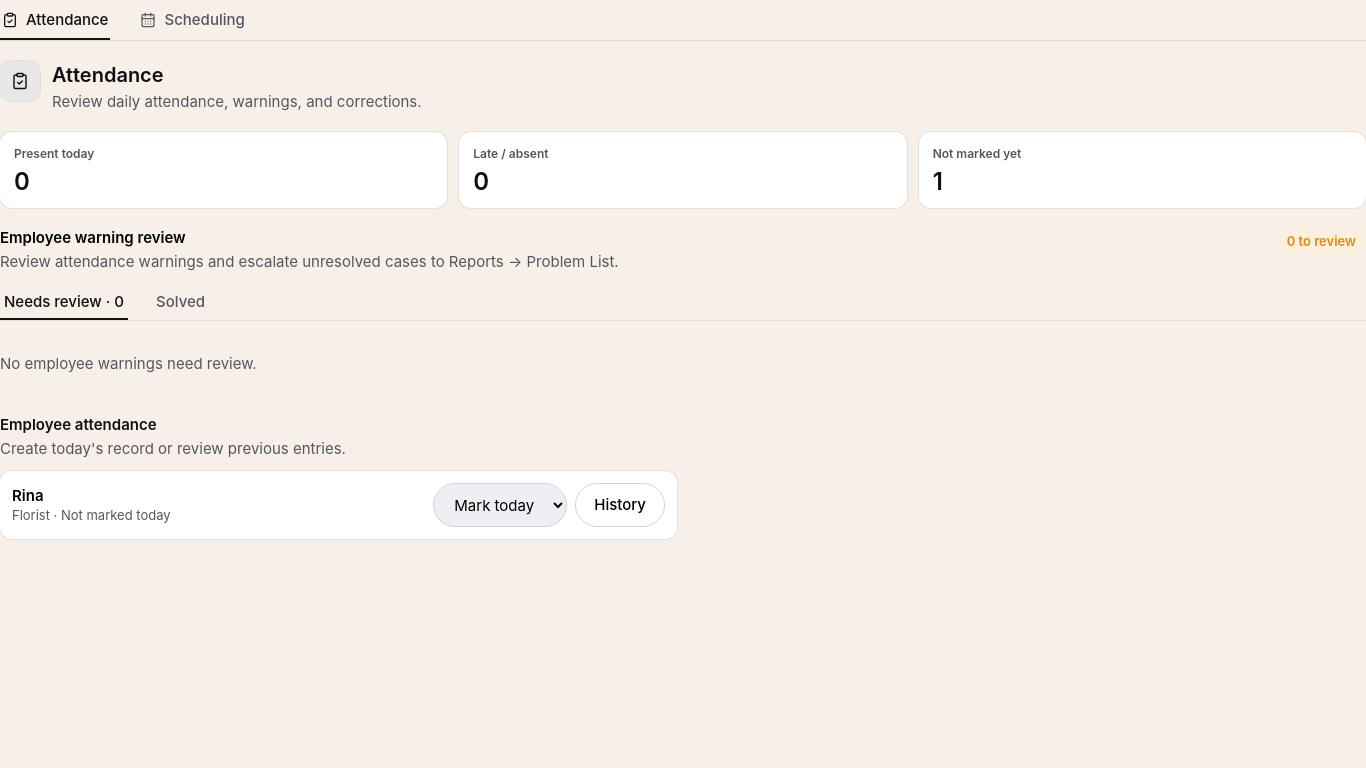
Test: separate attendance section › records a dated attendance entry with a note and shows history
Click the button "History". click: (620, 505)
box: [575,483,665,527]
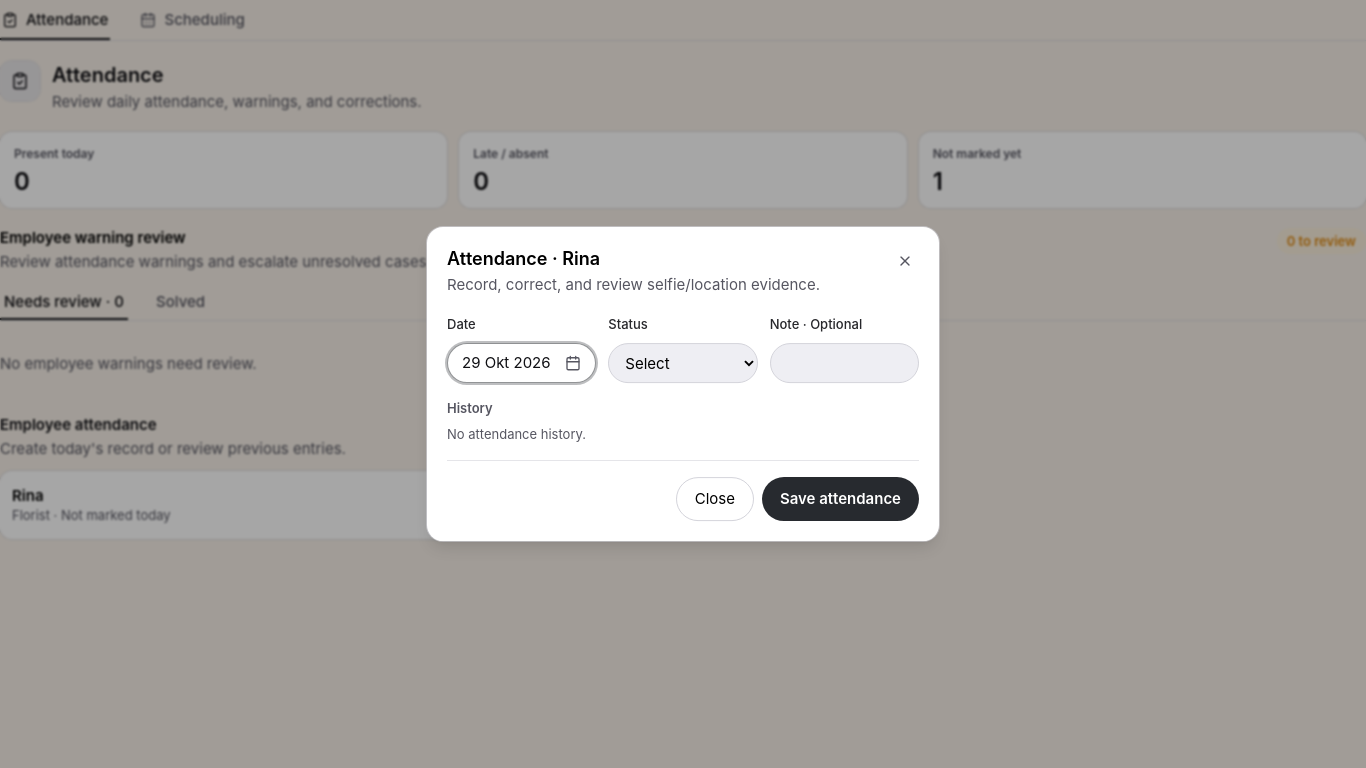
Select "Late" in the dropdown named "Attendance status". click: (683, 363)
box: [608,343,758,383]
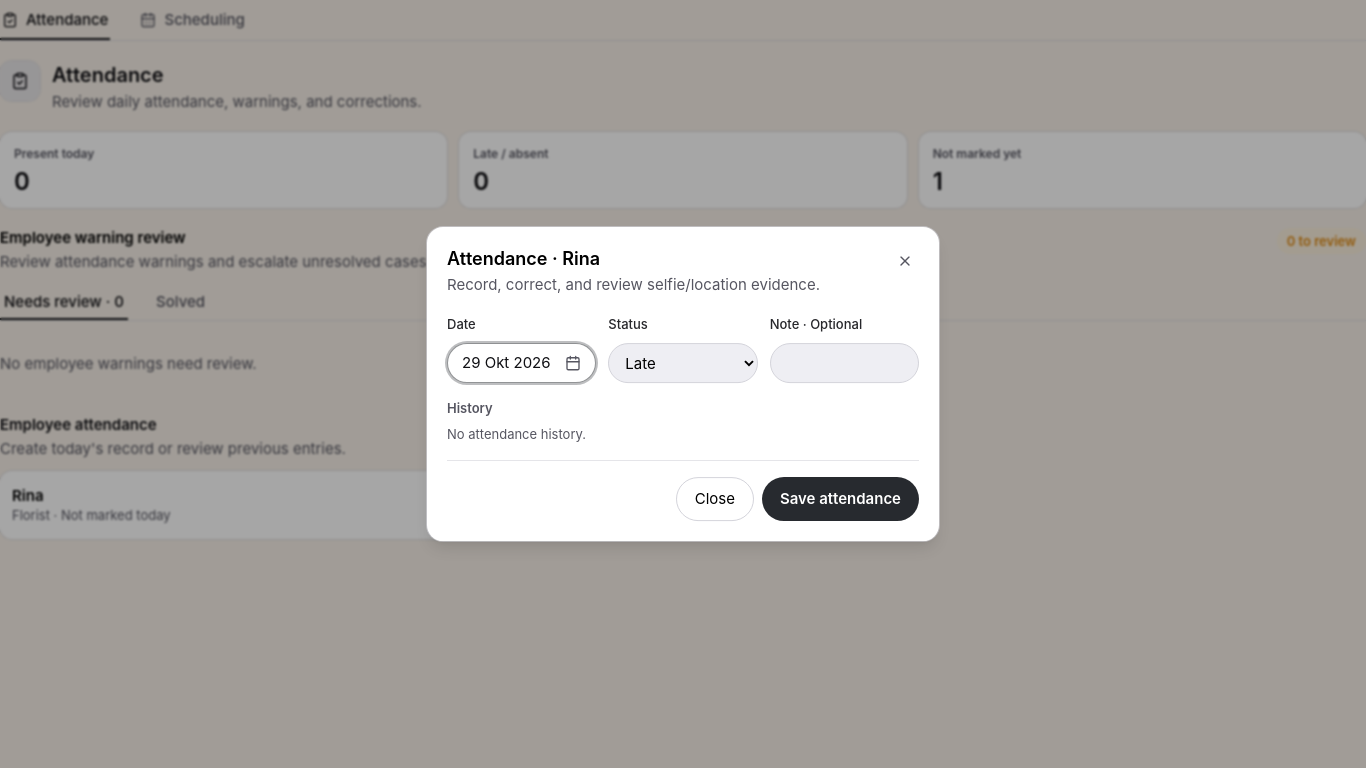
Type "Traffic delay" into the field named "Attendance note". click: (844, 363)
box: [770,343,919,383]
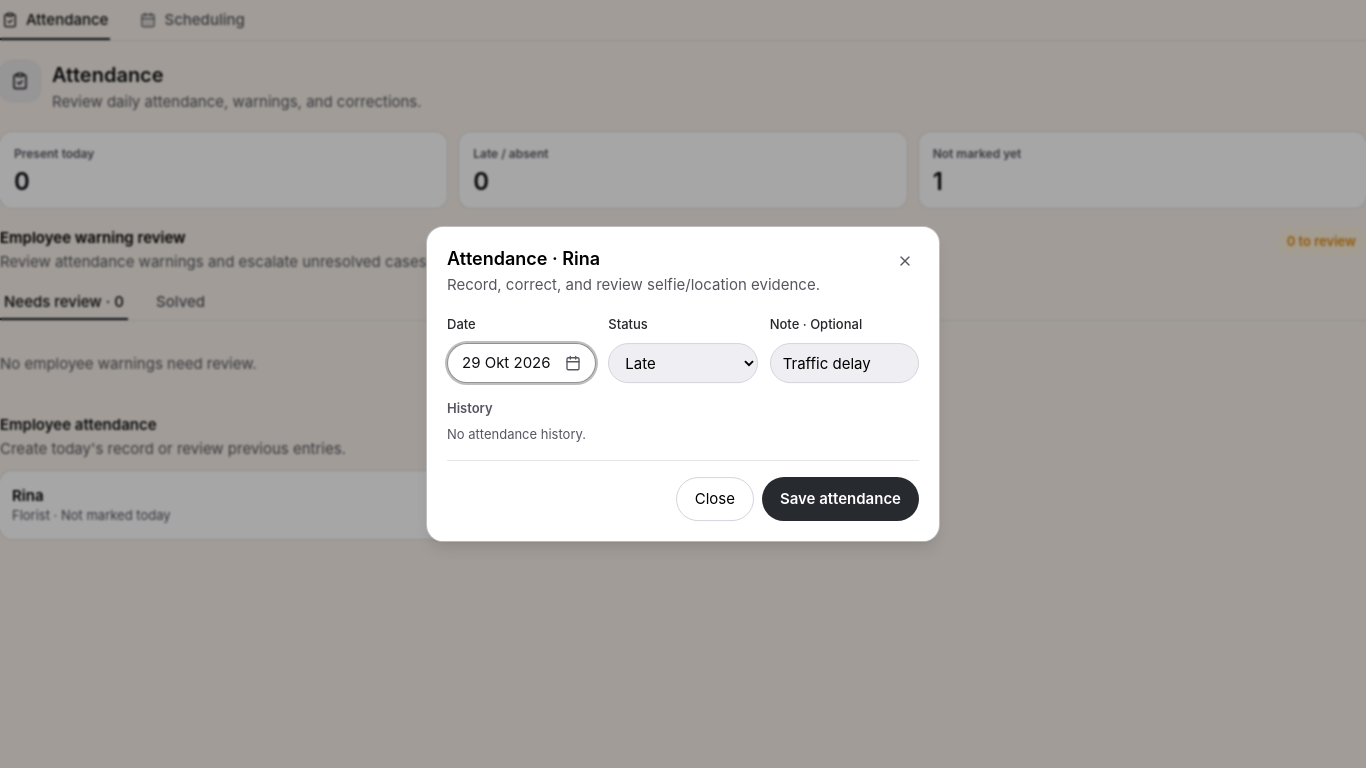
Click the button "Save attendance". click: (840, 499)
box: [762,477,919,521]
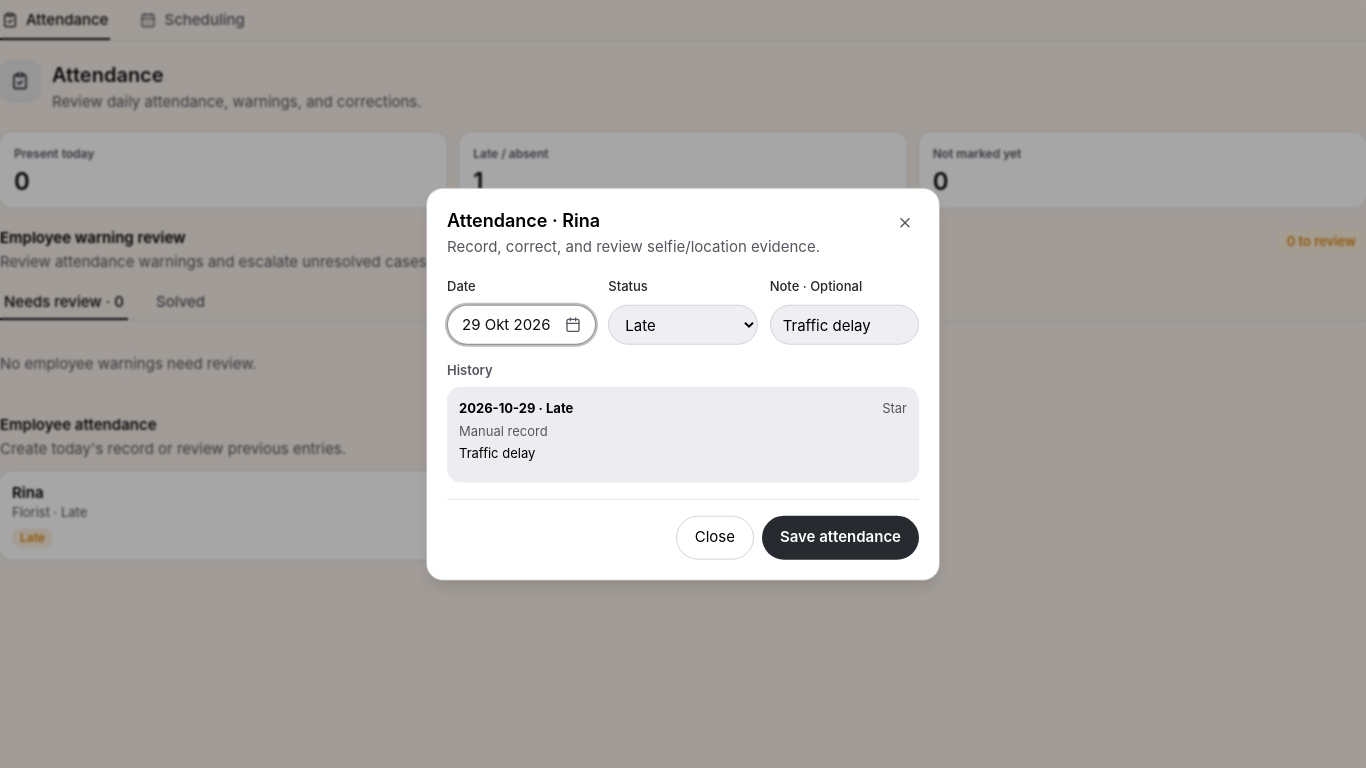
Expected: the text "Traffic delay" is shown, [459,445,535,461]
